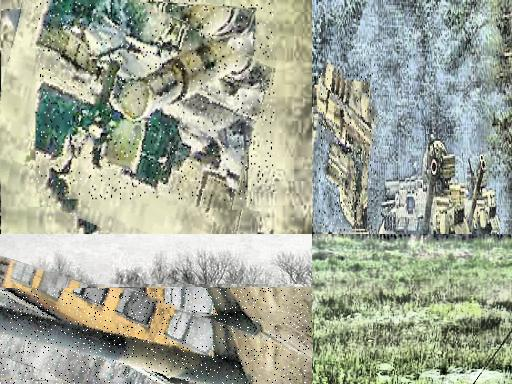tanks: (37, 1, 274, 202), (1, 310, 313, 384), (320, 64, 378, 233), (380, 139, 472, 235), (465, 157, 501, 235)
